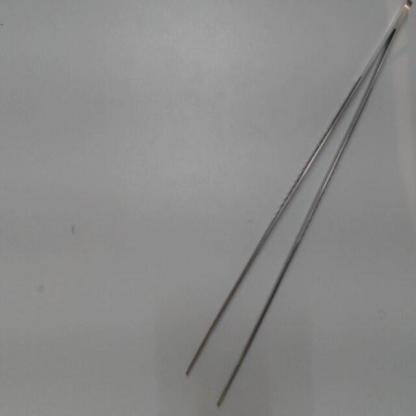DeBakey Dissector: (168, 0, 409, 413)
